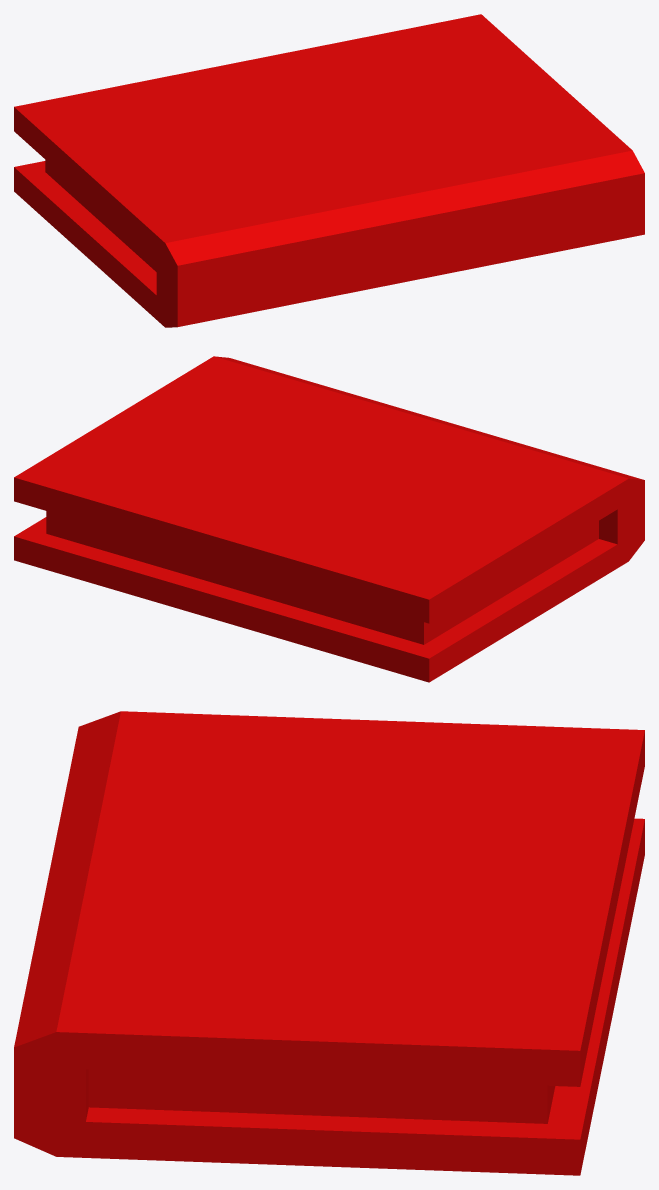
Rendered from Asset_LonelyEverfishBook.glb.
The picture shows the model from 3 angles, top to bottom: view 1: azimuth 30°, elevation 25°; view 2: azimuth 150°, elevation 25°; view 3: azimuth 270°, elevation 25°; orthographic projection. The views are drawn at different scales.
Visible parts, largest first — view 1: Asset_LonelyEverfishBook; view 2: Asset_LonelyEverfishBook; view 3: Asset_LonelyEverfishBook.
Boxes of the visible parts, box(x1,y1,x2,y2) form: Asset_LonelyEverfishBook: box(14, 14, 644, 327); Asset_LonelyEverfishBook: box(14, 356, 644, 682); Asset_LonelyEverfishBook: box(14, 711, 644, 1175).
Bounding box in the file's own units: 0.546 × 0.0932 × 0.4268.
